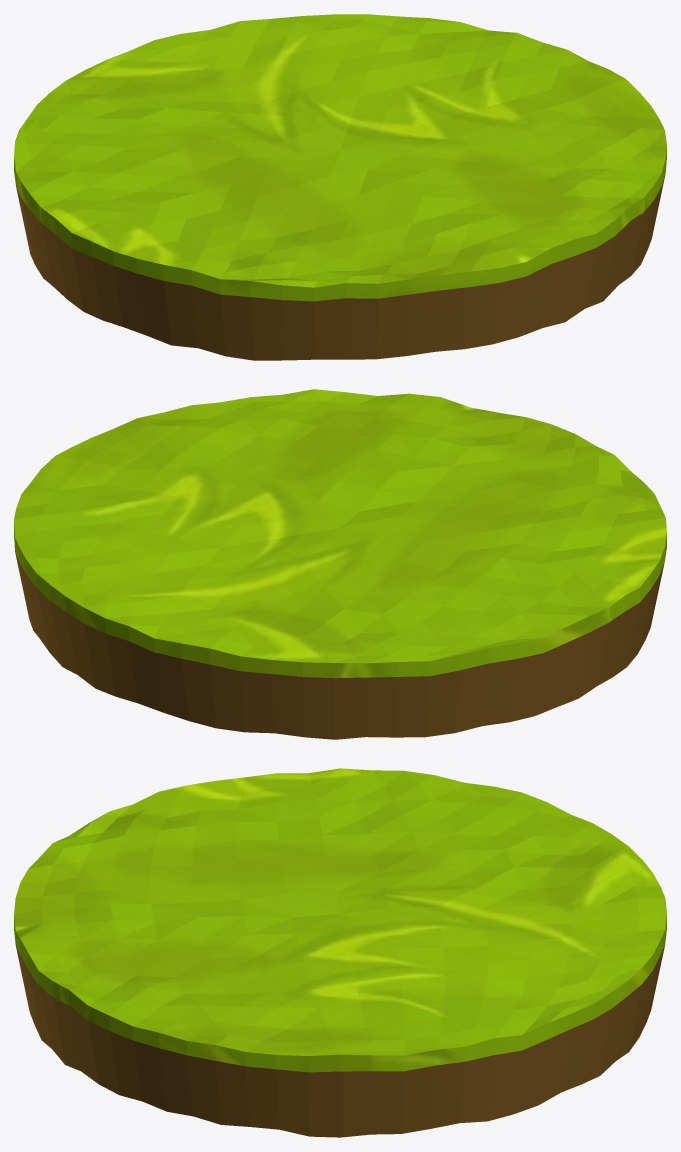
File: Platform.fbx
3 views of the same model, one above another, from view 1: azimuth 30°, elevation 25°; view 2: azimuth 150°, elevation 25°; view 3: azimuth 270°, elevation 25° (orthographic). The views are drawn at different scales.
Parts seen in each view (by area): view 1: WaterLilly; view 2: WaterLilly; view 3: WaterLilly.
Part boxes in pixels (x1,y1,x2,y2): WaterLilly: (14,14,666,360); WaterLilly: (14,389,666,739); WaterLilly: (14,768,666,1137).
Size of the model in its own units: 232 by 34.35 by 224.
2 materials, 1 textured.
